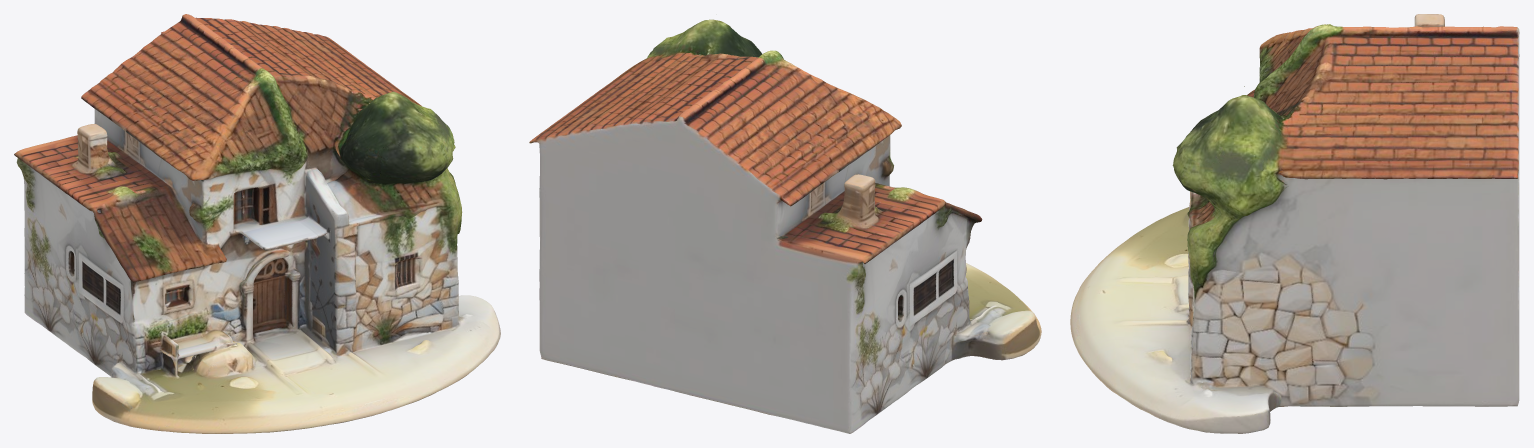
File: model_stone_house_7483.glb
3 views of the same model, side by side, from view 1: azimuth 30°, elevation 25°; view 2: azimuth 150°, elevation 25°; view 3: azimuth 270°, elevation 25° (orthographic). The views are drawn at different scales.
Visible parts, largest first — view 1: model_0; view 2: model_0; view 3: model_0.
Boxes of the visible parts, bbox=[...] form: model_0: bbox=[14, 14, 500, 433]; model_0: bbox=[529, 19, 1041, 433]; model_0: bbox=[1070, 14, 1519, 433].
Bounding box in the file's own units: 1 × 0.6398 × 0.8541.
1 material, 1 textured.
